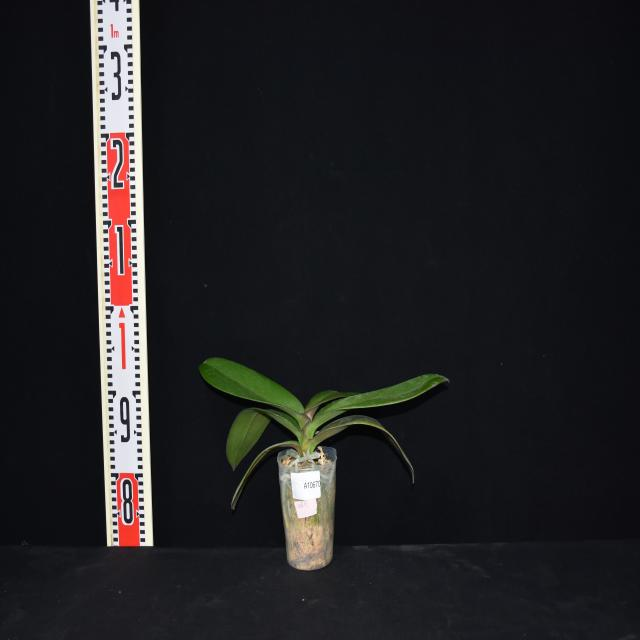leaf: (303, 372, 450, 437), (201, 357, 303, 422), (307, 416, 414, 474), (232, 440, 301, 507), (228, 409, 298, 474)
